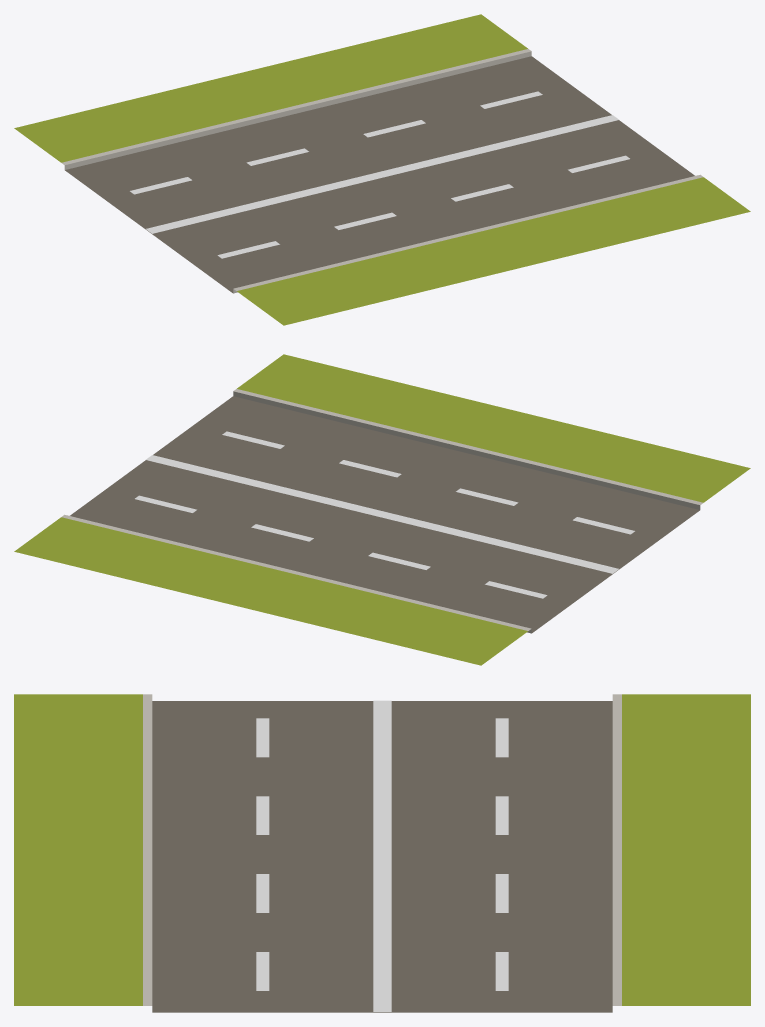
The model's file is road-tile-big_01.fbx.
3 views of the same model, one above another, from view 1: azimuth 30°, elevation 25°; view 2: azimuth 150°, elevation 25°; view 3: azimuth 270°, elevation 25° (orthographic). The views are drawn at different scales.
Parts seen in each view (by area): view 1: road-tile-big_01; view 2: road-tile-big_01; view 3: road-tile-big_01.
Part boxes in pixels (<box>): road-tile-big_01: <box>14,14,750,325</box>; road-tile-big_01: <box>14,354,750,665</box>; road-tile-big_01: <box>14,694,750,1012</box>.
Size of the model in its own units: 2000 by 20 by 2000.
